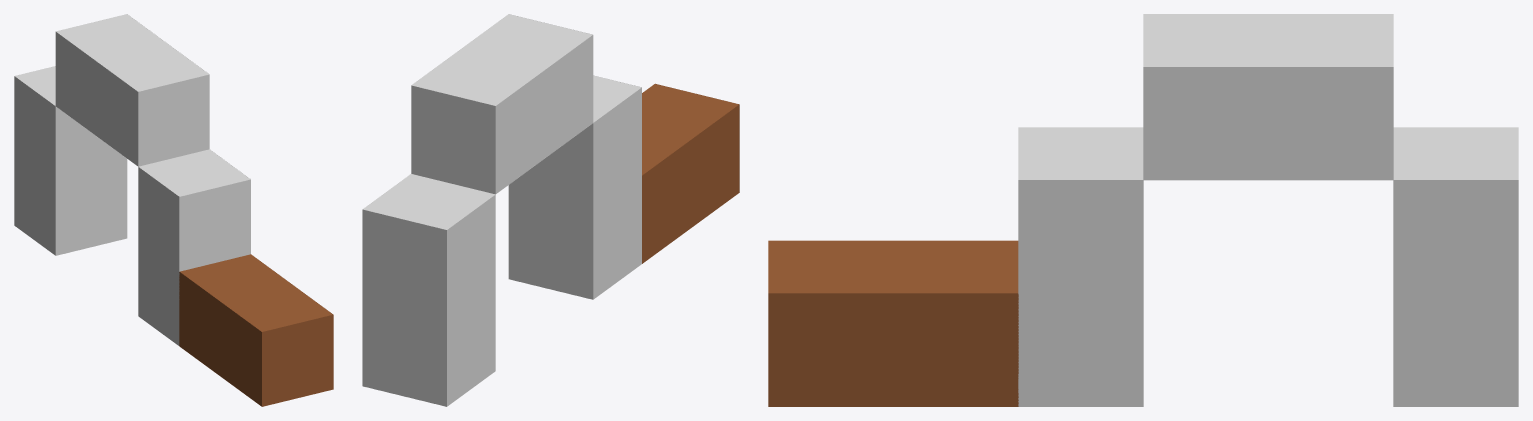
Rendered from Reaper Weapon.obj.
3 renders of one model, left to right at view 1: azimuth 30°, elevation 25°; view 2: azimuth 150°, elevation 25°; view 3: azimuth 270°, elevation 25°, orthographic. The views are drawn at different scales.
Parts seen in each view (by area): view 1: Reaper Weapon; view 2: Reaper Weapon; view 3: Reaper Weapon.
Boxes of the visible parts, x1,y1,x2,y2 form: Reaper Weapon: (14,14,333,406); Reaper Weapon: (362,14,739,406); Reaper Weapon: (768,14,1518,406).
Size of the model in its own units: 1 by 3 by 6.
Materials: 1 (1 with a texture image).
